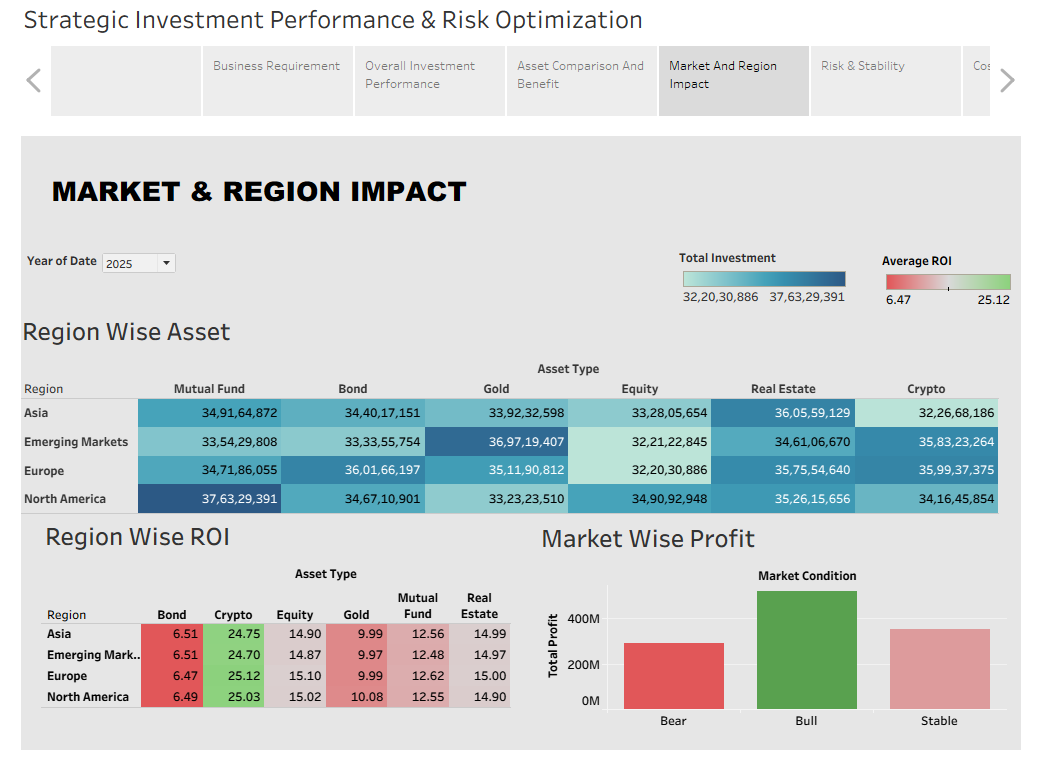

Layout of this report page (visuals, bound fields, positions):
{"tool":"tableau","page":{"name":"MARKET & REGION IMPACT","canvas":[1000,1000],"units":"permille","ordinal":3},"visuals":[{"type":"text","box":[27.6,38.2,487.6,102.6]},{"type":"legend","title":"Region Wise Asset","param":"[federated.1wwh79u1fpuqpj1ba0z2k0fuhllu].[usr:Calculation_0358462931013632:qk]","box":[658.1,184.2,171.4,100]},{"type":"filter","title":"Region Wise Asset","param":"[federated.1wwh79u1fpuqpj1ba0z2k0fuhllu].[yr:Date:ok]","box":[5.7,185.5,152.4,57.9]},{"type":"legend","title":"Region Wise ROI","param":"[federated.1wwh79u1fpuqpj1ba0z2k0fuhllu].[usr:Calculation_0358462931263490:qk]","box":[861,189.5,133.3,100]},{"type":"worksheet","title":"Region Wise ROI","mark":"Automatic","rows":["Region"],"cols":["Asset Type"],"box":[20,617.1,470.5,314.5]},{"type":"worksheet","title":"Market Wise Profit","mark":"Automatic","rows":["Calculation_0358462931140609"],"cols":["Market Condition"],"box":[516.2,621.1,470.5,347.4]}]}

Visuals, with their boxes on the dashboard's canvas, which has no fixed pixel size, in thousandths of its width and height (x1, y1, x2, y2). These are canvas units, not pixel positions in the 1041x764 screenshot, which may show the page scaled, cropped or inside an application window:
text: 28/38/515/141
"Region Wise Asset" legend: 658/184/830/284
"Region Wise Asset" filter: 6/186/158/243
"Region Wise ROI" legend: 861/190/994/290
"Region Wise ROI" worksheet: 20/617/490/932
"Market Wise Profit" worksheet: 516/621/987/968
